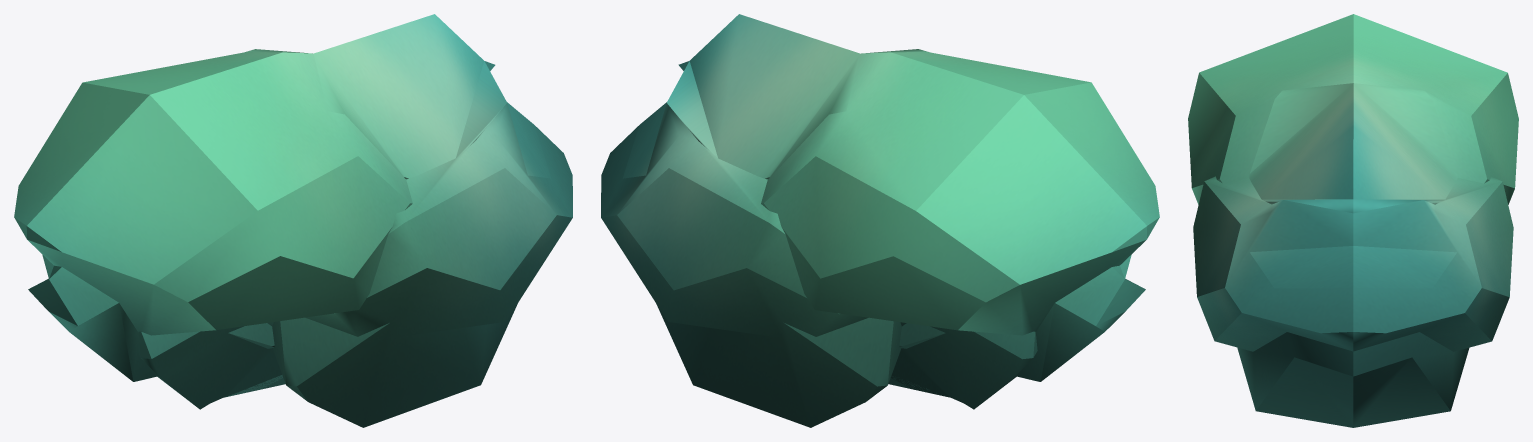
The model's file is BgMD_Smoll_Rock_01_01.fbx.
3 renders of one model, left to right at view 1: azimuth 30°, elevation 25°; view 2: azimuth 150°, elevation 25°; view 3: azimuth 270°, elevation 25°, orthographic. The views are drawn at different scales.
Visible parts, largest first — view 1: polySurface98; view 2: polySurface98; view 3: polySurface98.
Boxes of the visible parts, <box> form: polySurface98: <box>14,14,572,427</box>; polySurface98: <box>601,14,1159,427</box>; polySurface98: <box>1188,14,1518,427</box>.
Bounding box in the file's own units: 99.63 × 65.04 × 60.4.
